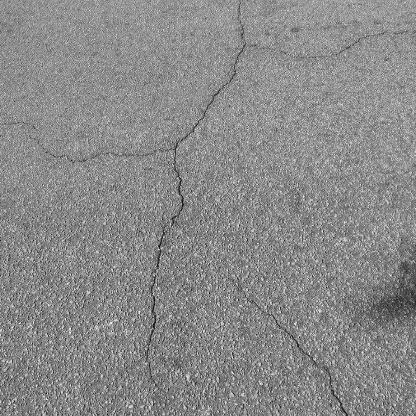Cracks: (28, 0, 416, 395), (234, 284, 353, 416), (0, 116, 40, 133)
